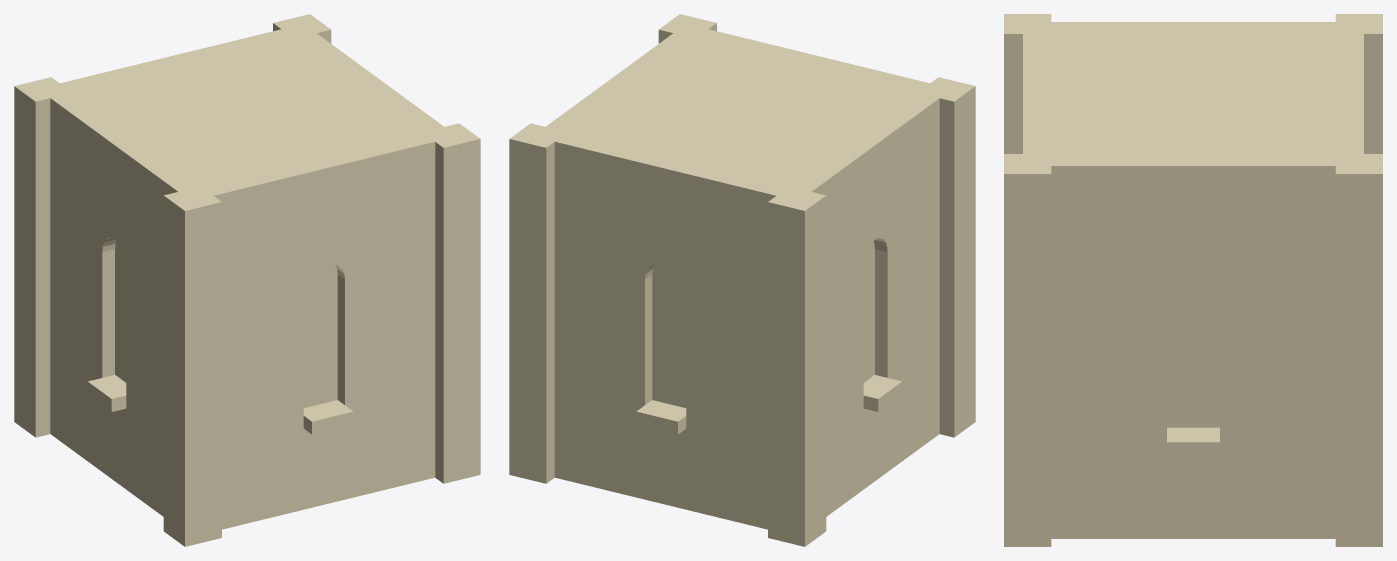
The model's file is towersquaremidwindows.glb.
3 renders of one model, left to right at view 1: azimuth 30°, elevation 25°; view 2: azimuth 150°, elevation 25°; view 3: azimuth 270°, elevation 25°, orthographic. The views are drawn at different scales.
Parts seen in each view (by area): view 1: towerSquareMidWindows; view 2: towerSquareMidWindows; view 3: towerSquareMidWindows.
Part boxes in pixels (bbox=[...]): towerSquareMidWindows: bbox=[14, 14, 480, 546]; towerSquareMidWindows: bbox=[509, 14, 975, 546]; towerSquareMidWindows: bbox=[1004, 14, 1382, 546].
Size of the model in its own units: 9.3 by 10.1 by 9.3.
